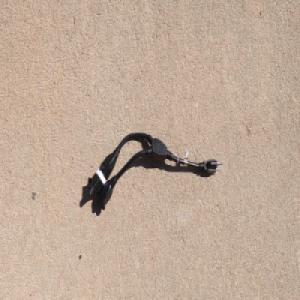Wire: (85, 130, 223, 212)
